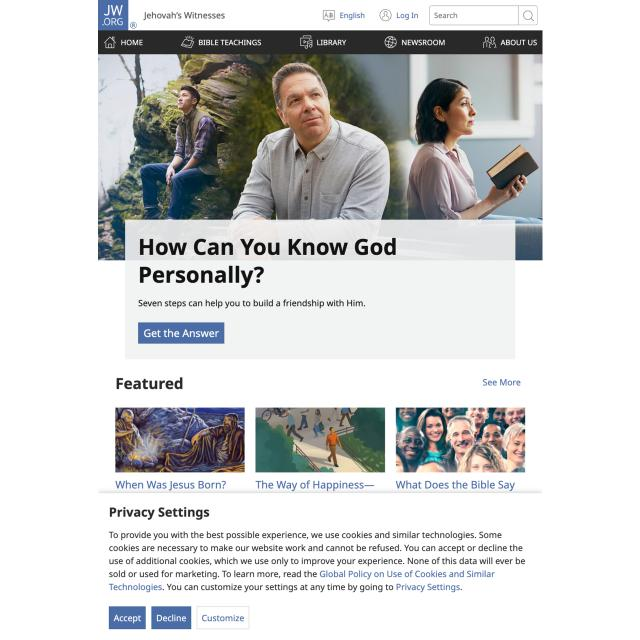input: (428, 3, 540, 27)
logo: (98, 0, 138, 30)
navigation: (98, 30, 543, 56)
